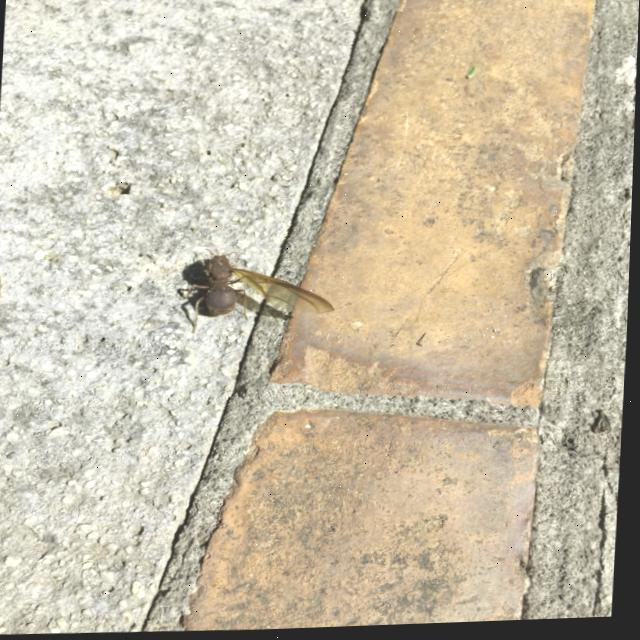Alive-Female-Alate: (178, 245, 339, 339)
